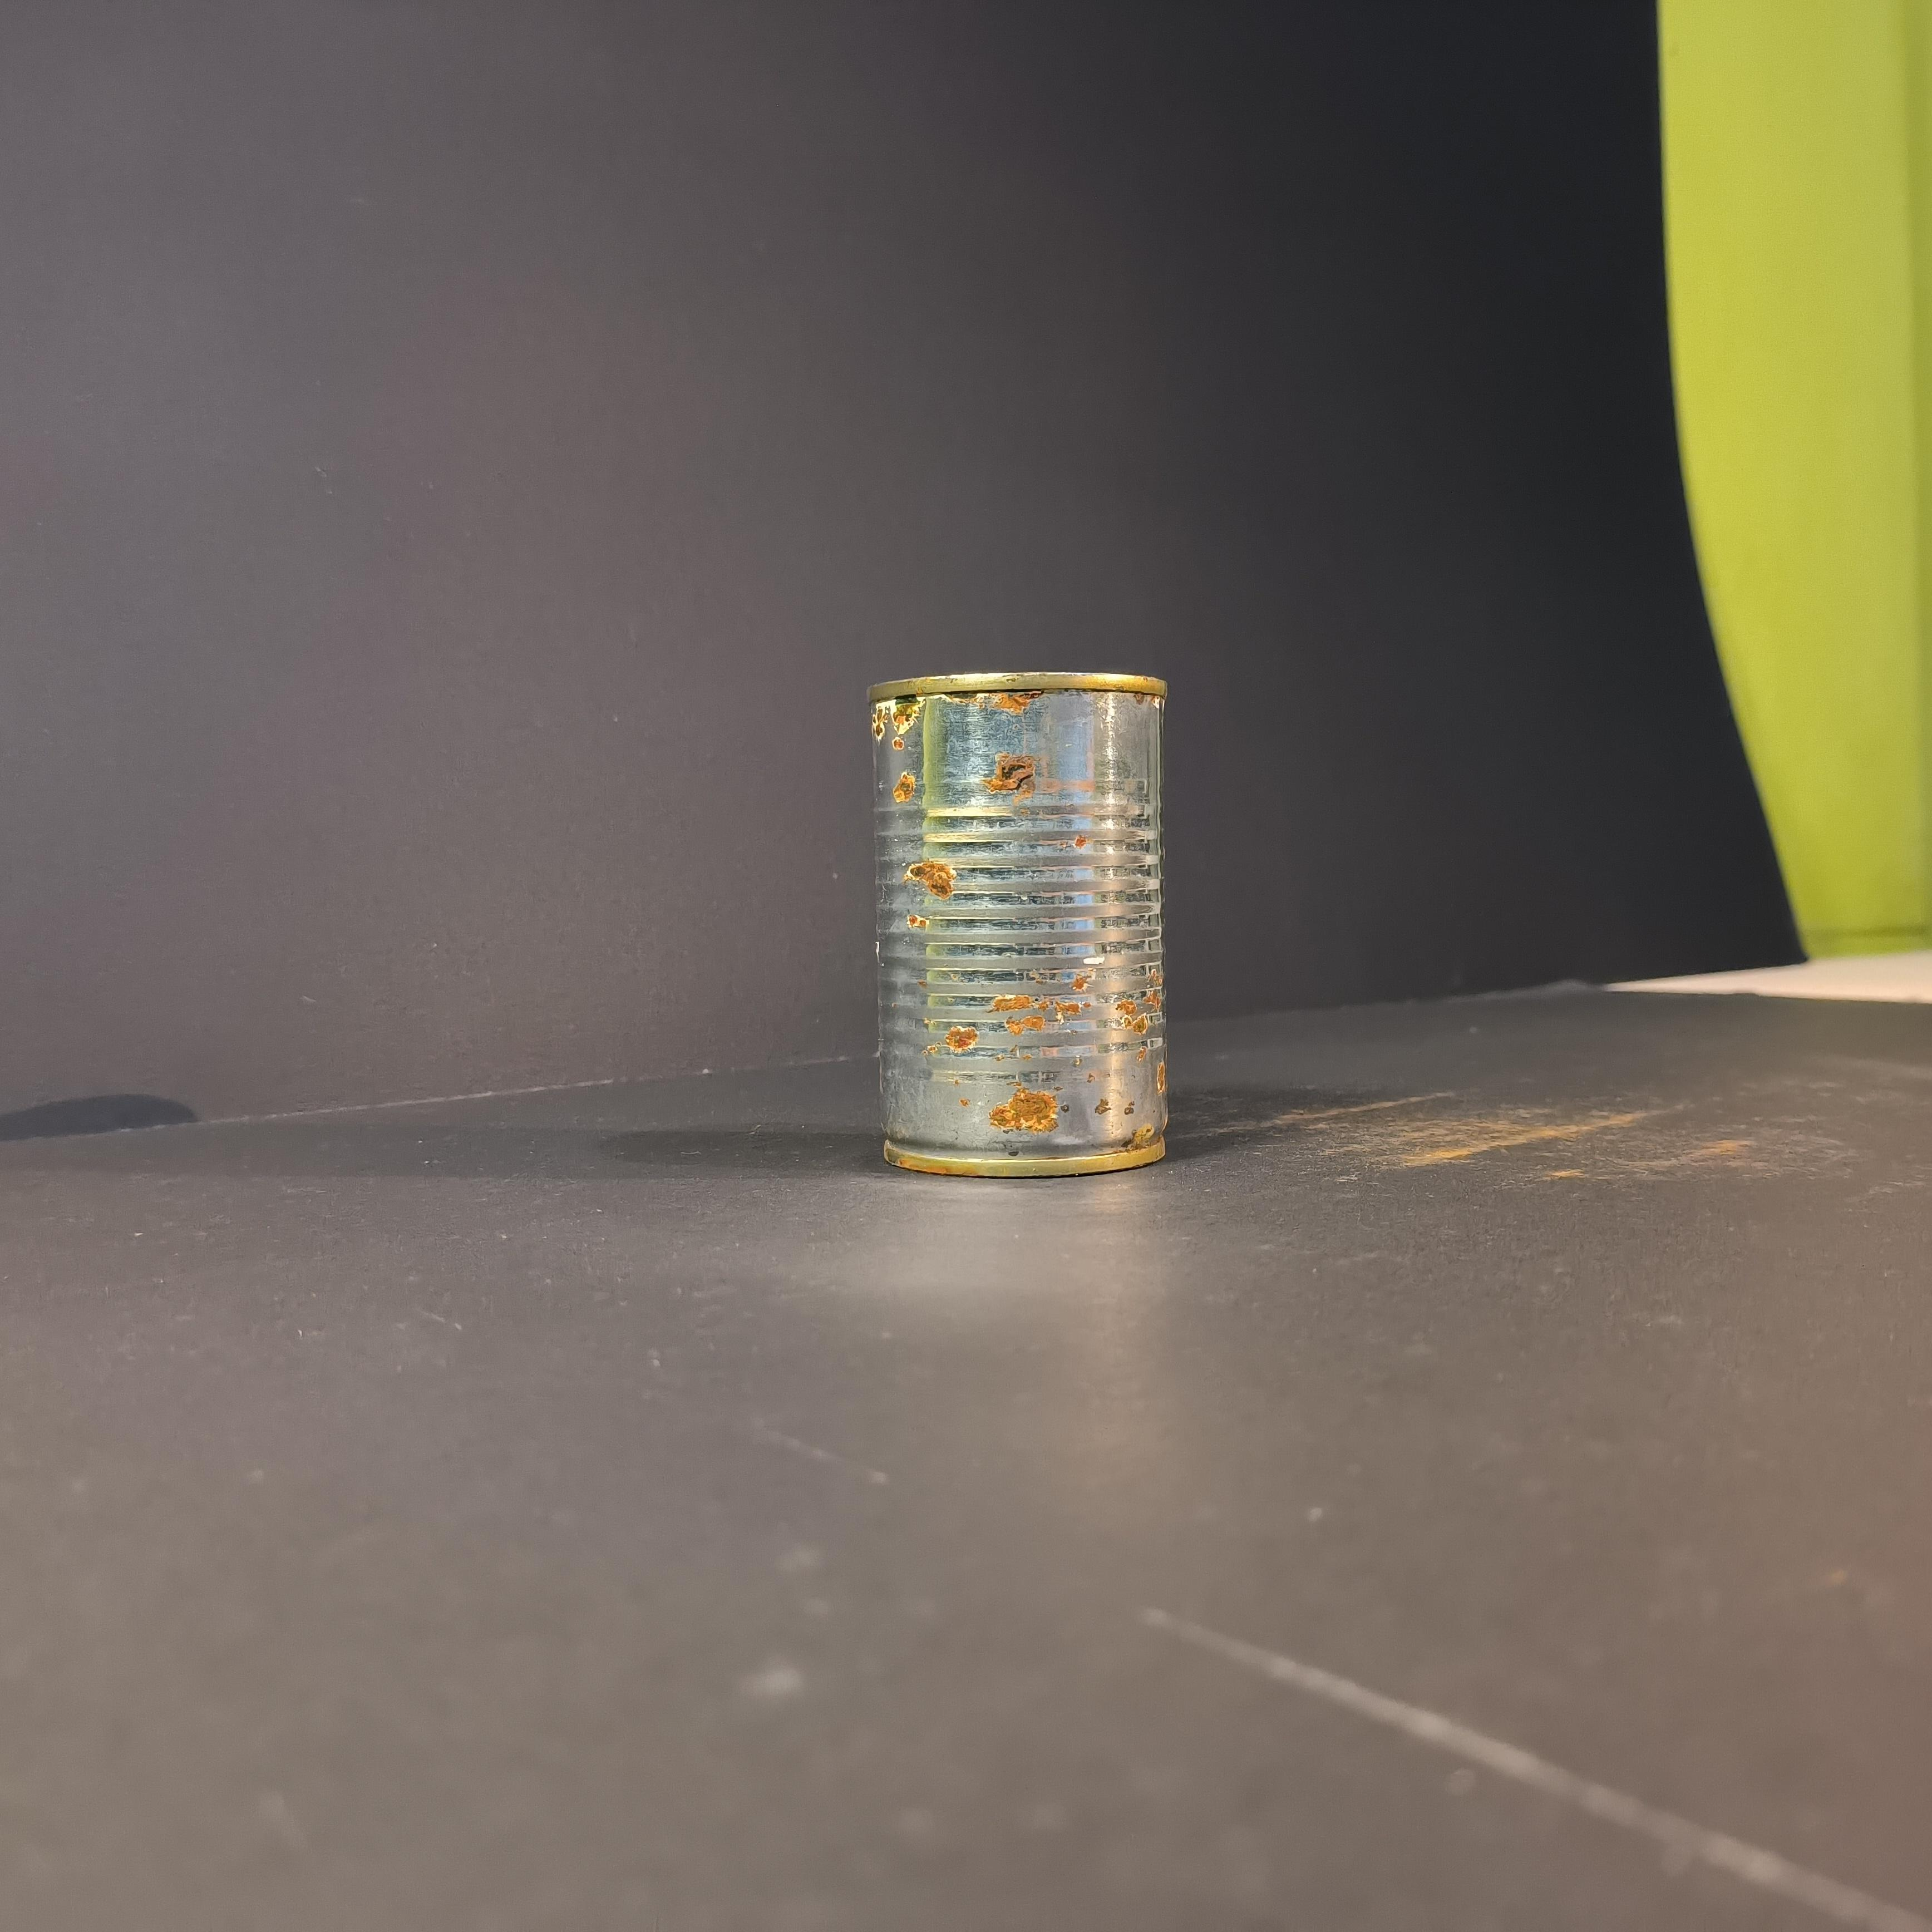Rusted: (832, 642, 1215, 1200)
